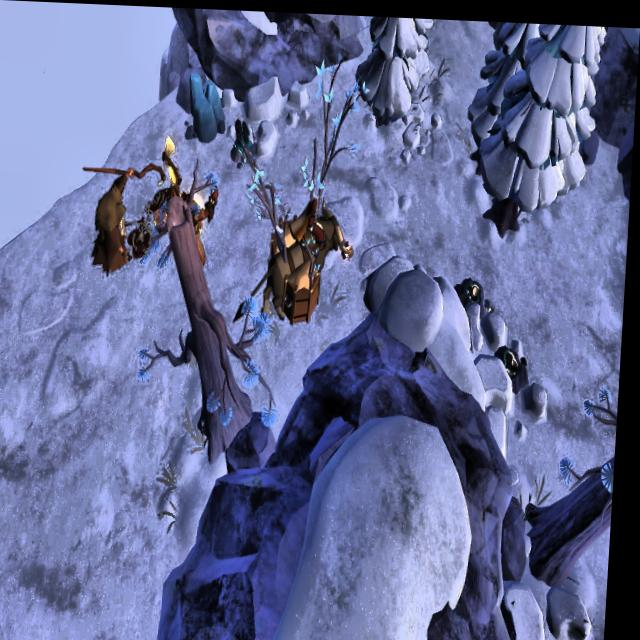enemy_factionKeeper: (96, 165, 159, 275)
ore_t4: (234, 115, 258, 155)
rock_t4: (187, 63, 229, 150)
